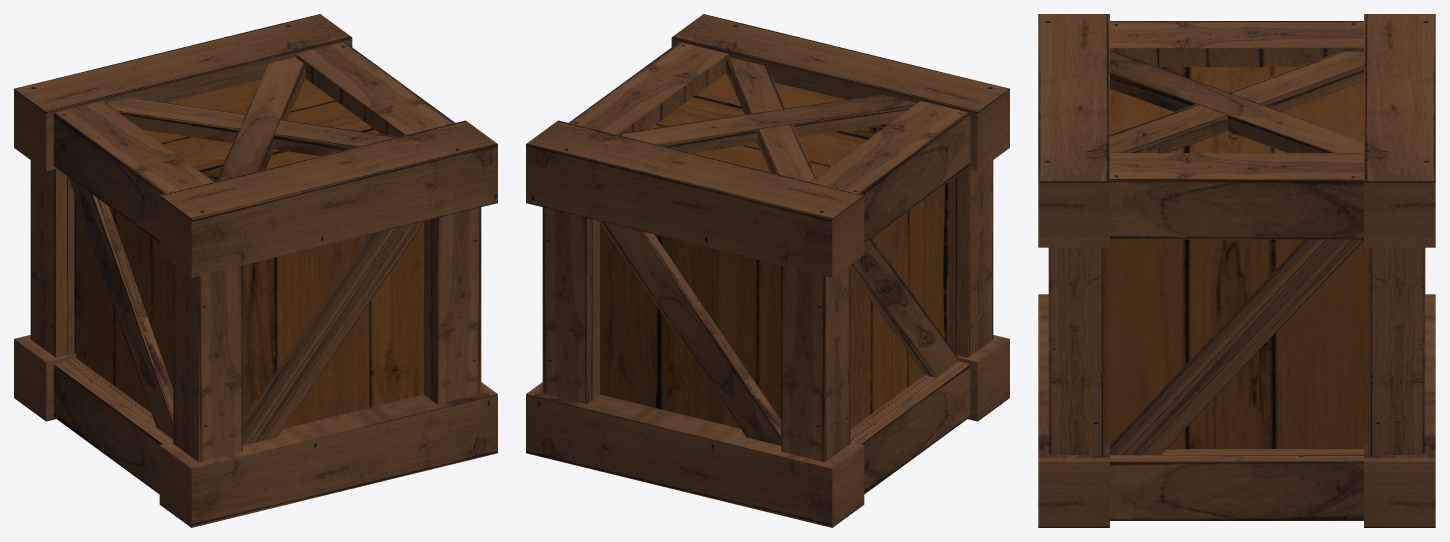
Rendered from boxxx.fbx.
3 renders of one model, left to right at view 1: azimuth 30°, elevation 25°; view 2: azimuth 150°, elevation 25°; view 3: azimuth 270°, elevation 25°, orthographic. The views are drawn at different scales.
Parts seen in each view (by area): view 1: Cube.013, Cube.007; view 2: Cube.013, Cube.007; view 3: Cube.013, Cube.007.
Boxes of the visible parts, box(x1,y1,x2,y2) form: Cube.013: box(14, 14, 497, 527); Cube.007: box(74, 79, 423, 428); Cube.013: box(526, 14, 1009, 527); Cube.007: box(600, 73, 949, 428); Cube.013: box(1038, 14, 1435, 527); Cube.007: box(1105, 67, 1368, 448).
Bounding box in the file's own units: 250 × 241 × 251.
